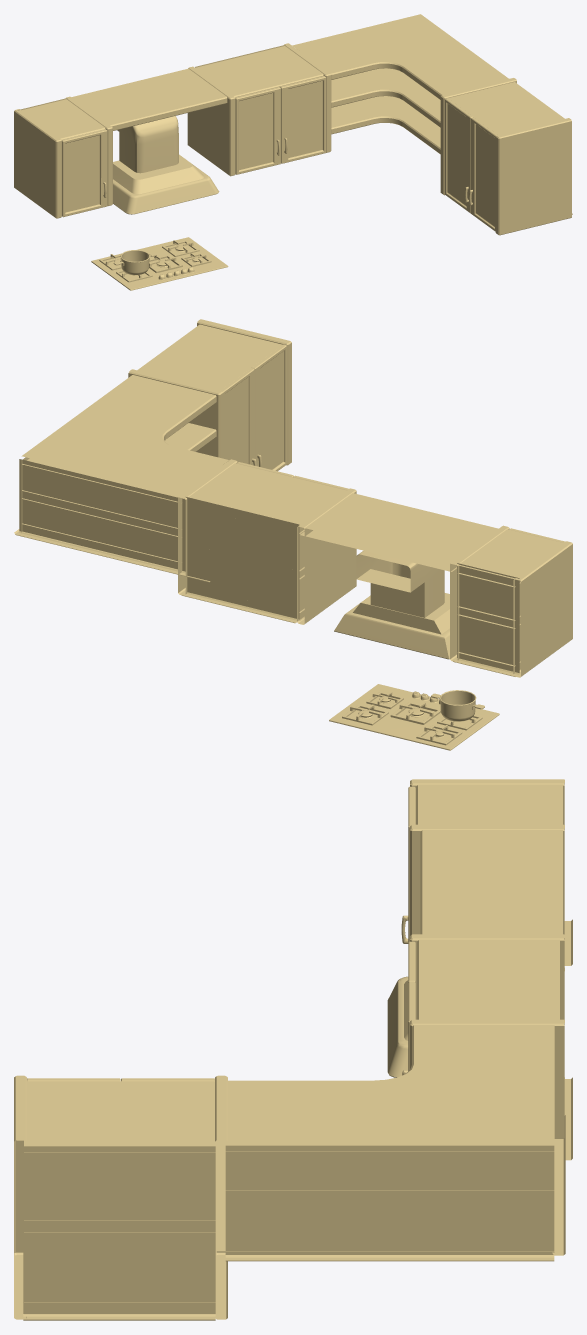
The model's file is kitchen_upper_parts.fbx.
The picture shows the model from 3 angles, top to bottom: view 1: azimuth 30°, elevation 25°; view 2: azimuth 150°, elevation 25°; view 3: azimuth 270°, elevation 25°; orthographic projection. The views are drawn at different scales.
Visible parts, largest first — view 1: polySurface335; view 2: polySurface335; view 3: polySurface335.
Part boxes in pixels (x1=…): polySurface335: x1=14, y1=14, x2=572, y2=290; polySurface335: x1=14, y1=319, x2=572, y2=750; polySurface335: x1=14, y1=779, x2=572, y2=1320.
Size of the model in its own units: 5.99 by 2.25 by 3.86.
